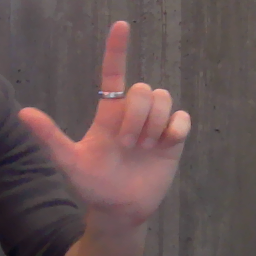L: (15, 18, 194, 225)
